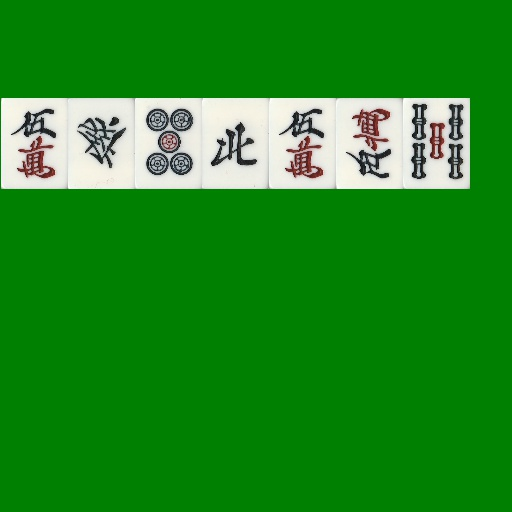5m: (1, 98, 68, 189), (269, 98, 336, 189), (336, 98, 403, 189)
5p: (135, 98, 202, 189)
5s: (403, 98, 470, 189)
hatsu: (68, 98, 135, 189)
north: (202, 98, 269, 189)
